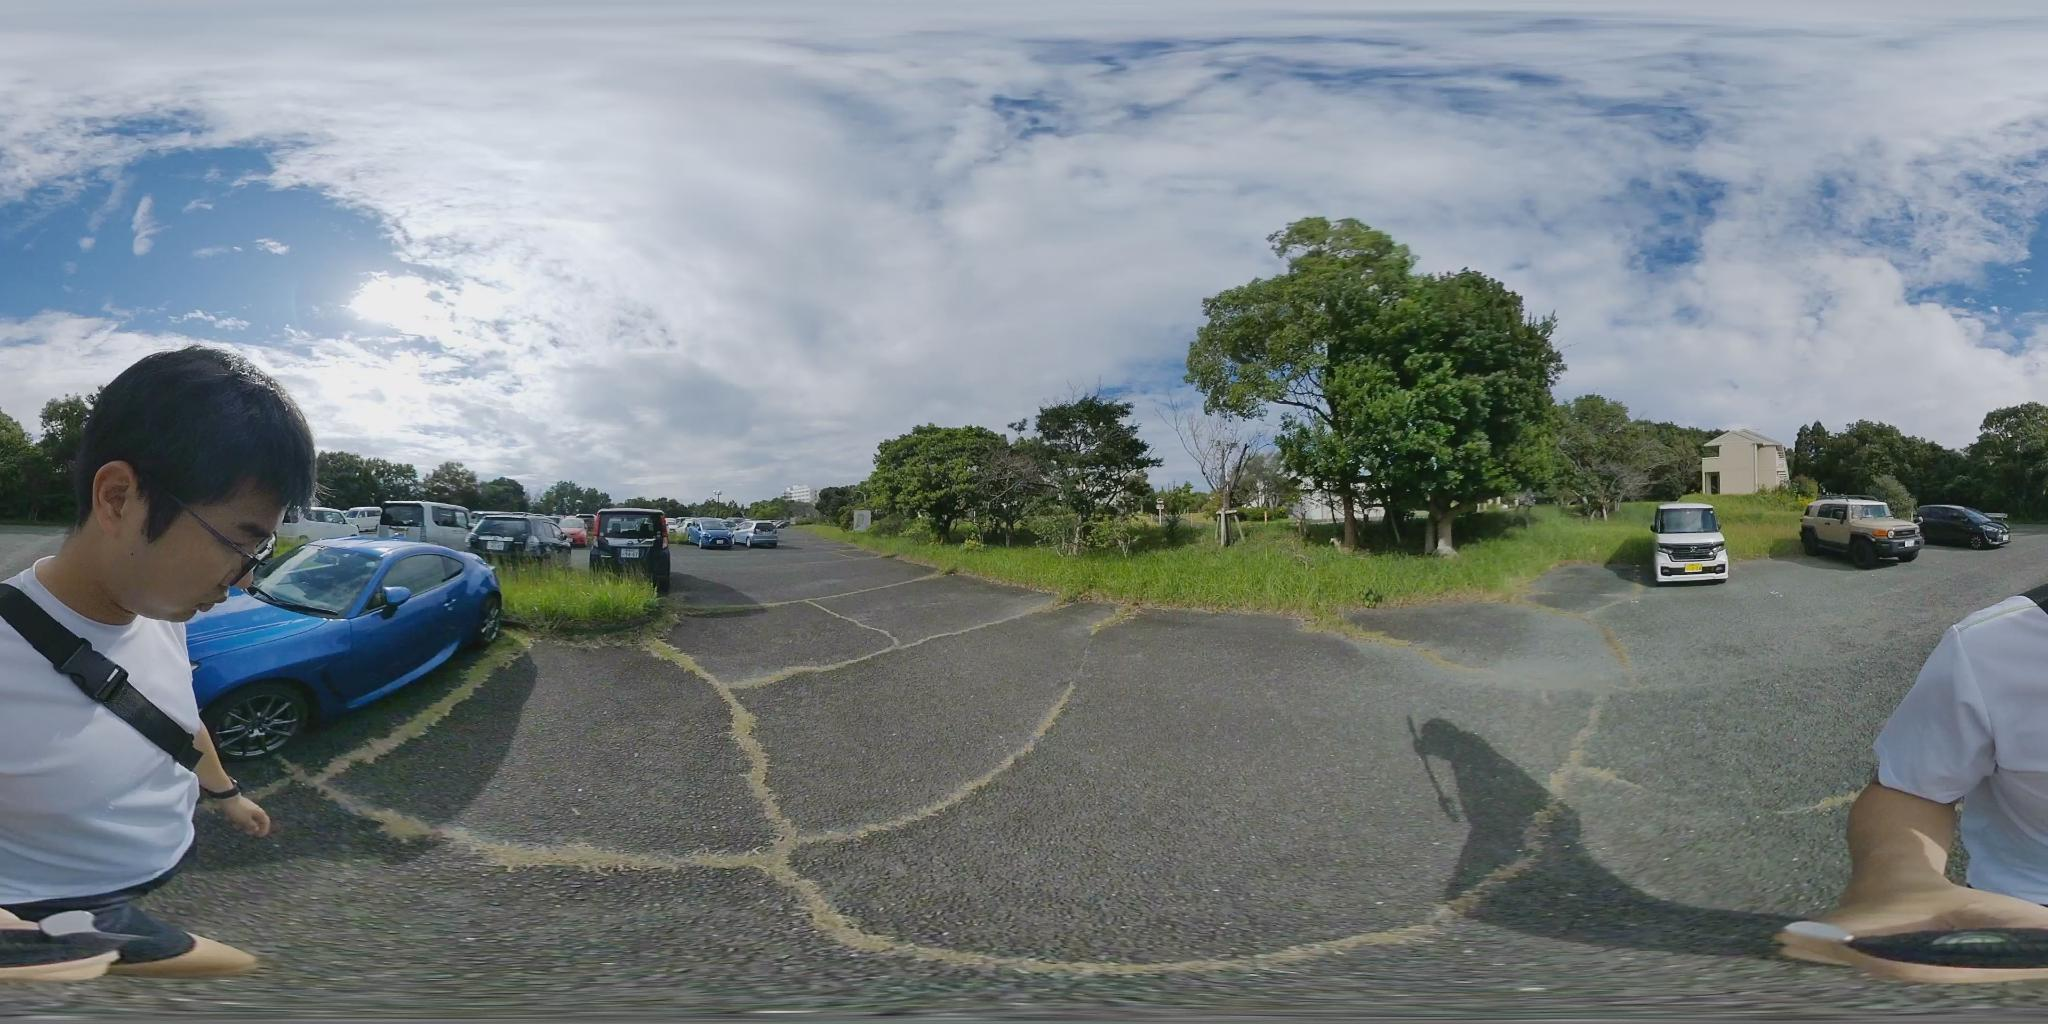car: (179, 533, 508, 755), (1800, 495, 1923, 567), (1656, 505, 1724, 583), (375, 502, 478, 551), (1920, 507, 2017, 550), (473, 508, 549, 554), (589, 508, 670, 550), (692, 521, 755, 549), (551, 517, 589, 549), (743, 522, 788, 549)
